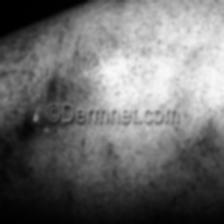Non-Cancerous Skin Condition: (13, 96, 54, 146), (55, 56, 109, 93)
